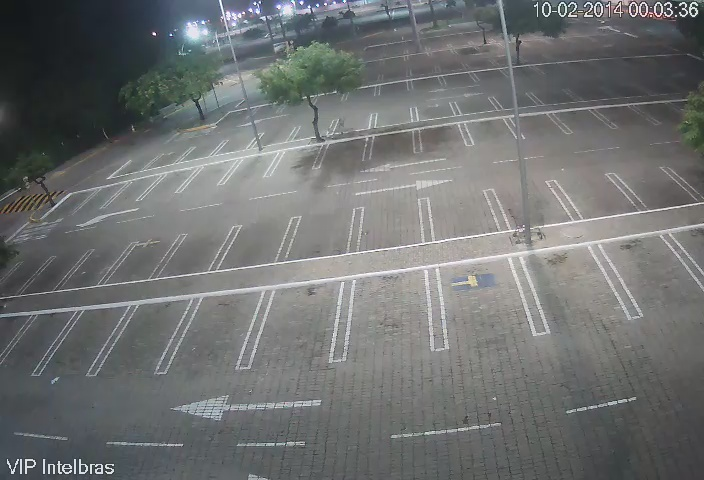lot: (420, 260, 540, 342), (516, 248, 624, 328), (338, 275, 435, 358), (596, 235, 704, 309), (267, 281, 343, 370), (188, 296, 261, 370), (127, 291, 187, 377), (64, 298, 119, 380), (558, 166, 635, 217), (287, 212, 352, 271), (427, 195, 504, 240), (617, 168, 699, 210), (358, 200, 425, 248), (10, 304, 58, 370), (496, 185, 569, 227), (231, 219, 288, 269), (126, 231, 169, 289), (178, 226, 222, 282), (75, 238, 121, 291), (279, 146, 322, 188), (36, 245, 72, 295), (321, 139, 373, 173), (598, 99, 652, 129), (415, 124, 470, 153), (509, 115, 566, 142), (462, 118, 515, 147), (369, 129, 416, 159), (552, 108, 607, 132), (237, 155, 278, 187), (190, 161, 227, 195), (51, 190, 91, 218), (115, 179, 153, 208), (152, 173, 189, 200), (532, 86, 584, 105), (415, 98, 455, 119), (89, 186, 114, 218), (381, 111, 421, 131), (454, 96, 501, 113), (494, 91, 540, 108), (334, 111, 372, 130), (187, 140, 217, 164), (154, 147, 183, 170), (224, 133, 252, 153), (122, 155, 151, 174), (257, 127, 286, 145), (374, 83, 410, 96), (412, 77, 443, 90), (298, 124, 321, 139)
